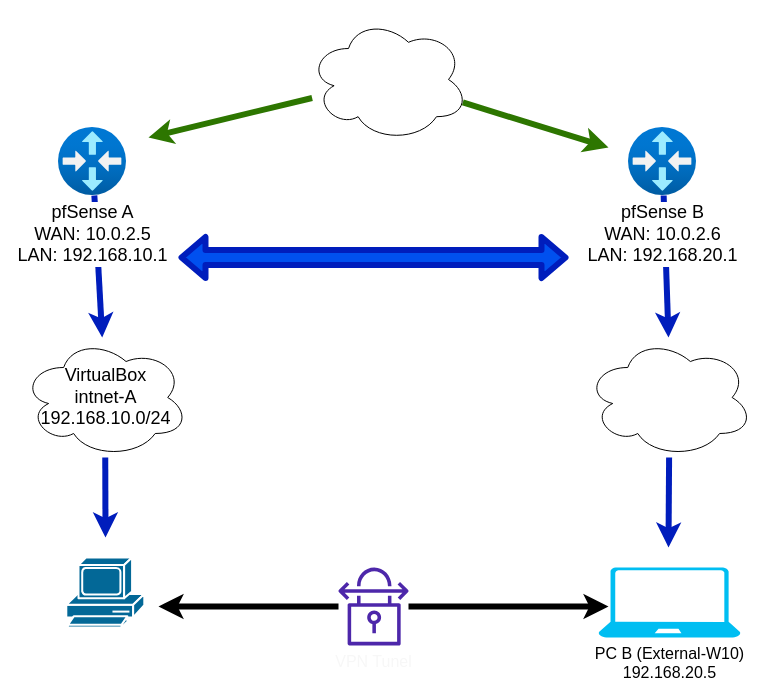
This 770x700 diagram has some shape labels left out. The centre of each missing label's shape, as x and y in pixels:
"PC A (Kali) 192.168.10.5" goes at [105,592].
"VirtualBox intnet-B 192.168.20.0/24" goes at [669,397].
"VirtualBox NAT Network 10.0.2.0/24" goes at [388,79].
